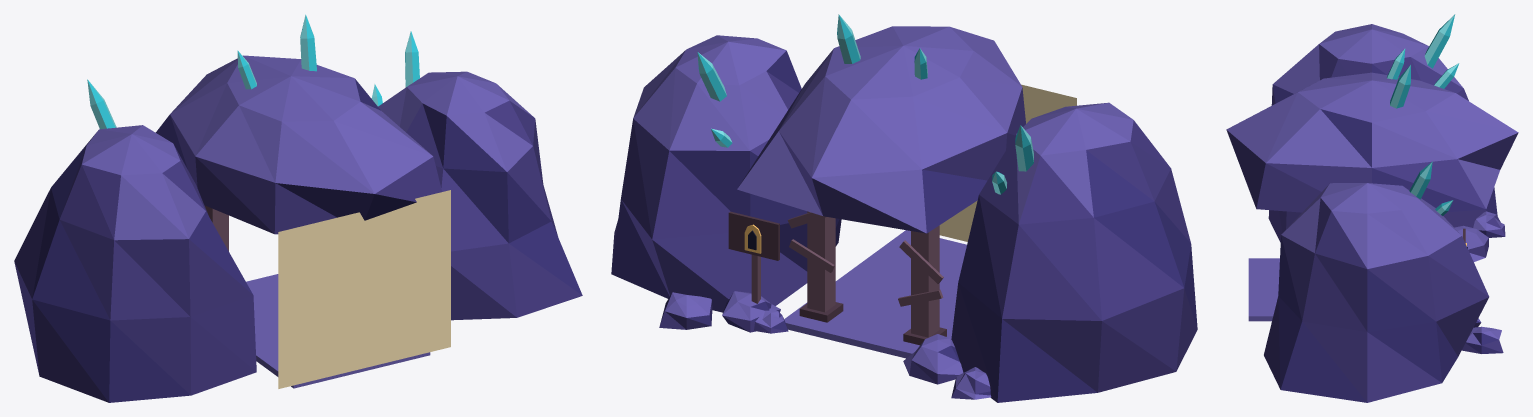
The model's file is Mine_Exit.obj.
3 renders of one model, left to right at view 1: azimuth 30°, elevation 25°; view 2: azimuth 150°, elevation 25°; view 3: azimuth 270°, elevation 25°, orthographic. The views are drawn at different scales.
Visible parts, largest first — view 1: Mine_Exit; view 2: Mine_Exit; view 3: Mine_Exit.
Boxes of the visible parts, x1,y1,x2,y2 form: Mine_Exit: (14,14,582,402); Mine_Exit: (611,14,1197,402); Mine_Exit: (1226,14,1518,402).
Size of the model in its own units: 11.6 by 5.89 by 6.4.
